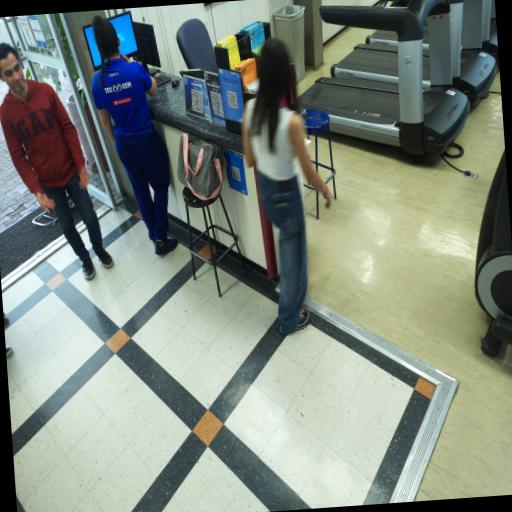person: (0, 44, 113, 280), (243, 39, 331, 334), (92, 15, 177, 255), (6, 346, 13, 358)
